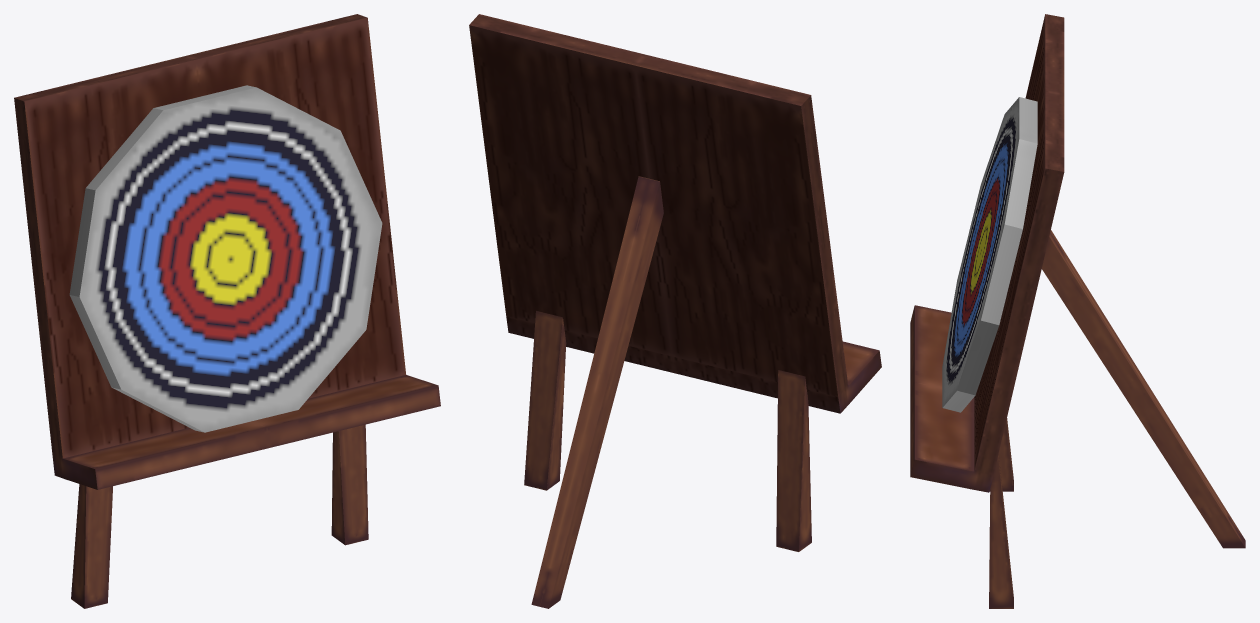
The model's file is TargetStand.fbx.
3 views of the same model, side by side, from view 1: azimuth 30°, elevation 25°; view 2: azimuth 150°, elevation 25°; view 3: azimuth 270°, elevation 25° (orthographic). The views are drawn at different scales.
Parts seen in each view (by area): view 1: Cylinder, Cube; view 2: Cube; view 3: Cube, Cylinder.
Boxes of the visible parts, x1,y1,x2,y2 form: Cylinder: (69, 85, 382, 432); Cube: (14, 14, 440, 608); Cube: (469, 14, 881, 608); Cube: (910, 14, 1245, 608); Cylinder: (942, 97, 1037, 412).
Bounding box in the file's own units: 174 × 238 × 159.
